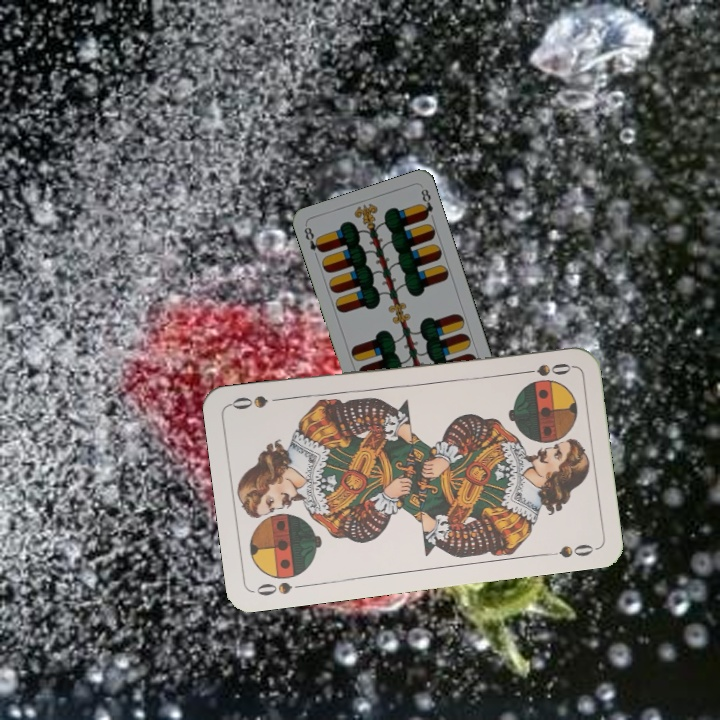E8: (300, 223, 326, 255)
SO: (252, 577, 310, 598), (515, 359, 574, 379)
